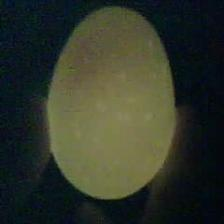infertile: (45, 4, 177, 200)
